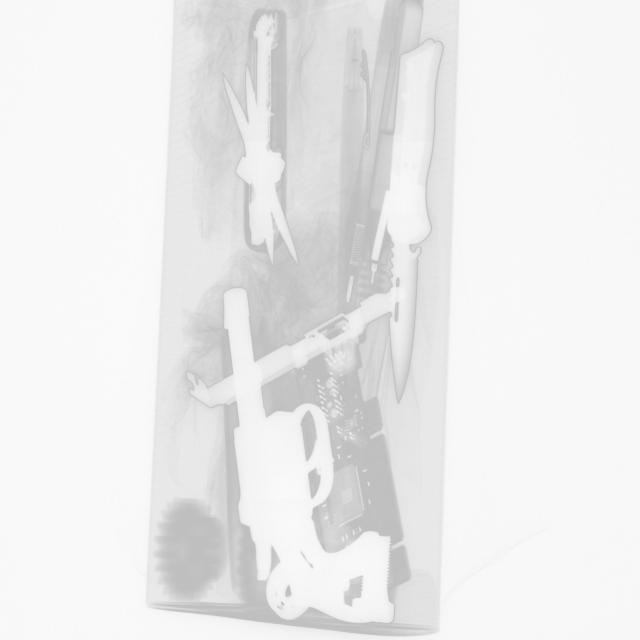knife: (383, 36, 446, 404)
pistol: (220, 283, 398, 628)
